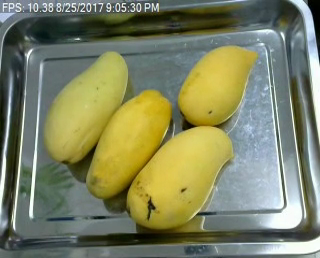Mango: (123, 121, 233, 224), (43, 46, 128, 167), (86, 86, 174, 200), (178, 43, 260, 129)
